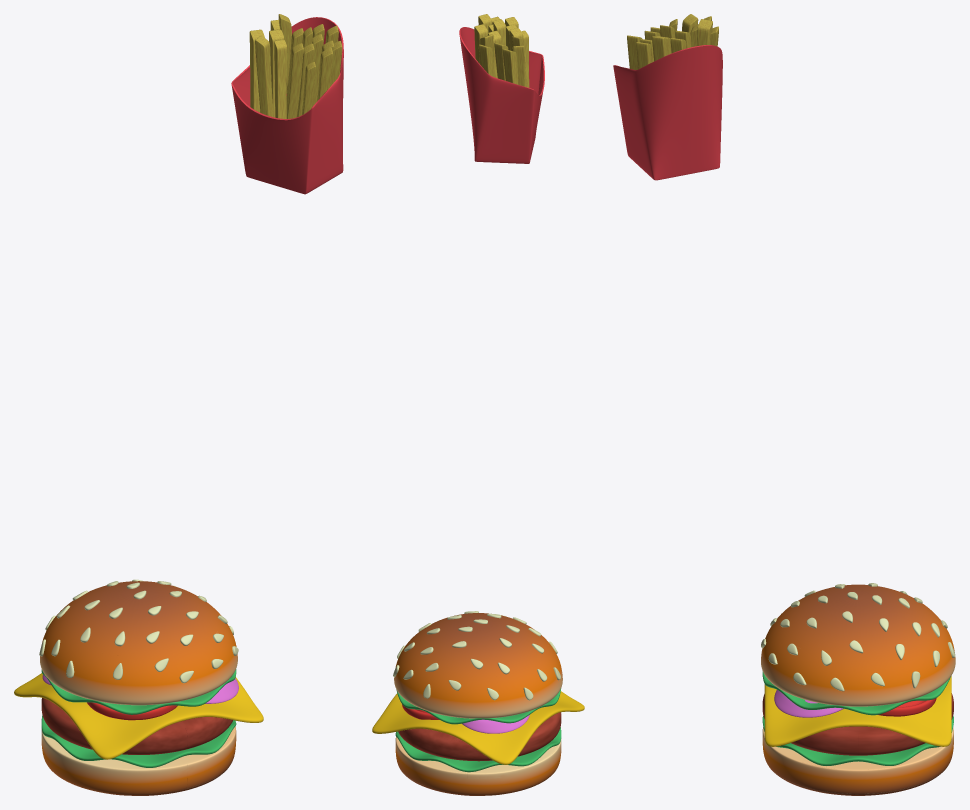
Rendered from add potato.glb.
3 renders of one model, left to right at view 1: azimuth 30°, elevation 25°; view 2: azimuth 150°, elevation 25°; view 3: azimuth 270°, elevation 25°, orthographic. The views are drawn at different scales.
Visible parts, largest first — view 1: Top bread, Cube, Bottom bread, Cheese, Circle.002, Circle.001, Circle.007, Cube.010, Cube.013, Cube.011, Circle.003, Cube.017; view 2: Top bread, Cube, Bottom bread, Cheese, Circle.002, Circle.001, Circle.007, Circle.005, Cube.017; view 3: Top bread, Cube, Bottom bread, Cheese, Circle.002, Circle.001, Circle.007, Circle.006.
Part boxes in pixels (<box>): Top bread: <box>40,581,237,705</box>; Cube: <box>231,17,343,194</box>; Bottom bread: <box>41,726,236,795</box>; Cheese: <box>14,673,263,759</box>; Circle.002: <box>41,698,232,754</box>; Circle.001: <box>41,715,236,767</box>; Circle.007: <box>41,669,236,714</box>; Cube.010: <box>255,35,273,117</box>; Cube.013: <box>274,40,287,118</box>; Cube.011: <box>286,43,303,118</box>; Circle.003: <box>87,702,177,720</box>; Cube.017: <box>249,29,264,112</box>; Top bread: <box>394,613,562,718</box>; Cube: <box>459,27,544,163</box>; Bottom bread: <box>395,737,561,795</box>; Cheese: <box>372,691,584,764</box>; Circle.002: <box>398,712,561,761</box>; Circle.001: <box>395,727,561,772</box>; Circle.007: <box>396,688,561,724</box>; Circle.005: <box>462,715,529,733</box>; Cube.017: <box>502,48,518,84</box>; Top bread: <box>761,584,955,706</box>; Cube: <box>613,45,722,180</box>; Bottom bread: <box>762,727,953,795</box>; Cheese: <box>764,676,951,746</box>; Circle.002: <box>762,693,953,755</box>; Circle.001: <box>762,716,953,765</box>; Circle.007: <box>762,671,950,715</box>; Circle.006: <box>774,690,843,717</box>.
Size of the model in its own units: 2.24 by 8.65 by 3.49.
10 materials, 4 textured.
